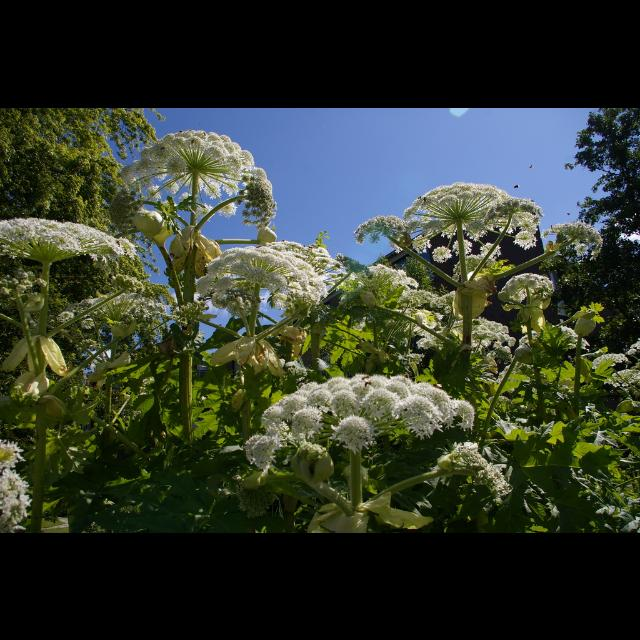Flower: (353, 179, 543, 277), (257, 373, 467, 461), (335, 262, 517, 350), (120, 128, 278, 218), (193, 238, 347, 318), (0, 214, 140, 264), (56, 290, 166, 330), (0, 438, 36, 532), (540, 220, 604, 260), (516, 323, 590, 352), (498, 271, 558, 305), (591, 352, 631, 371), (626, 338, 640, 352)
